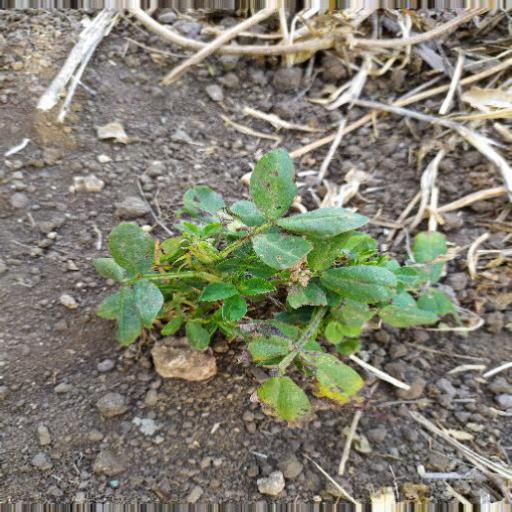weed: (91, 149, 462, 425)
